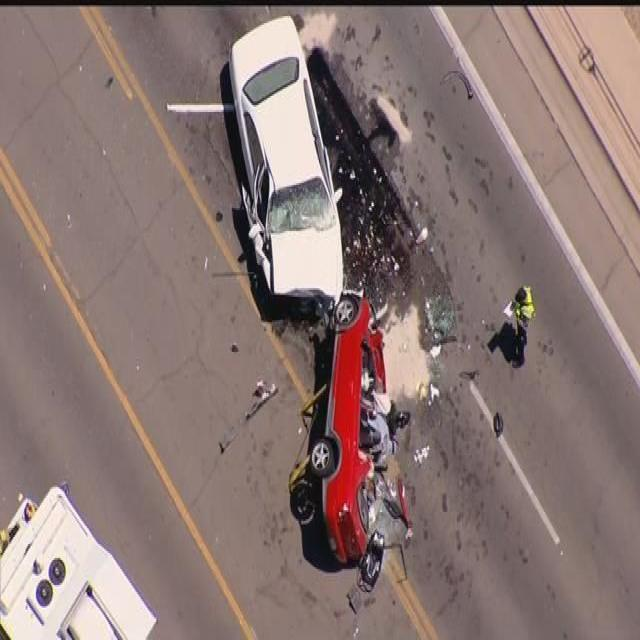traffic_incident: (214, 9, 359, 307), (298, 283, 413, 592)
